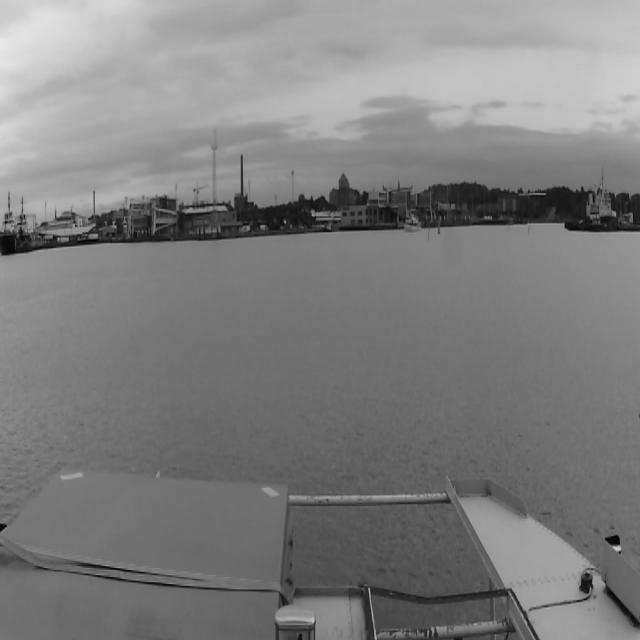buoy: (438, 220, 440, 234)
ship: (567, 178, 619, 234), (404, 212, 420, 232)
